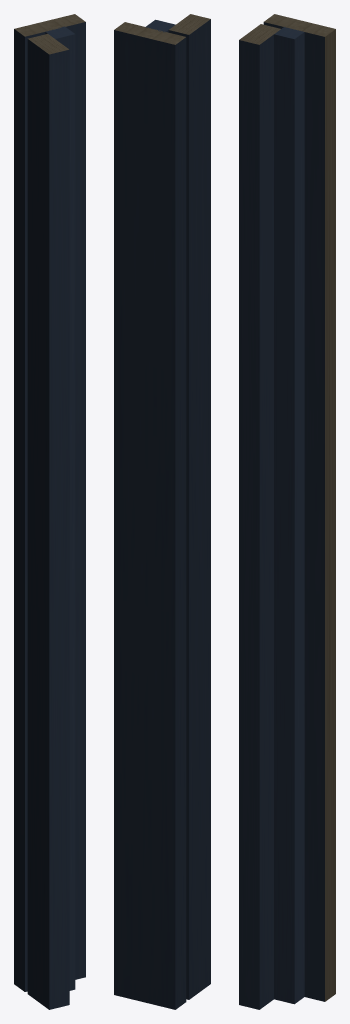
File: house_05_corner_trim.glb
3 renders of one model, left to right at view 1: azimuth 30°, elevation 25°; view 2: azimuth 150°, elevation 25°; view 3: azimuth 330°, elevation 25°, orthographic.
Visible parts, largest first — view 1: outdoor_house_05_corner_trim; view 2: outdoor_house_05_corner_trim; view 3: outdoor_house_05_corner_trim.
Boxes of the visible parts, <box> form: outdoor_house_05_corner_trim: <box>14,14,85,1009</box>; outdoor_house_05_corner_trim: <box>114,14,210,1009</box>; outdoor_house_05_corner_trim: <box>239,14,335,1009</box>.
Bounding box in the file's own units: 0.18 × 2.7 × 0.18.
1 material, 1 textured.
